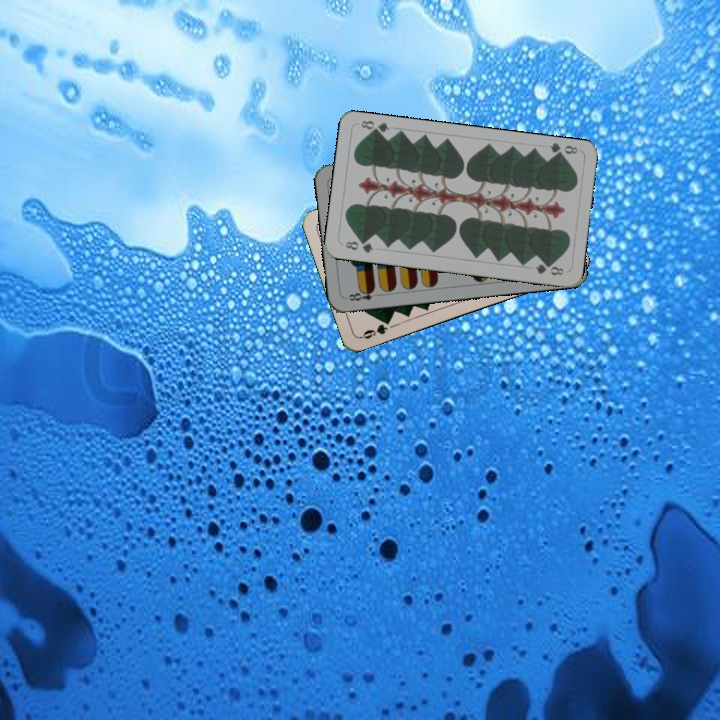E8: (344, 285, 383, 303)
G8: (545, 139, 580, 161), (341, 237, 376, 256)
G9: (356, 315, 393, 342)
